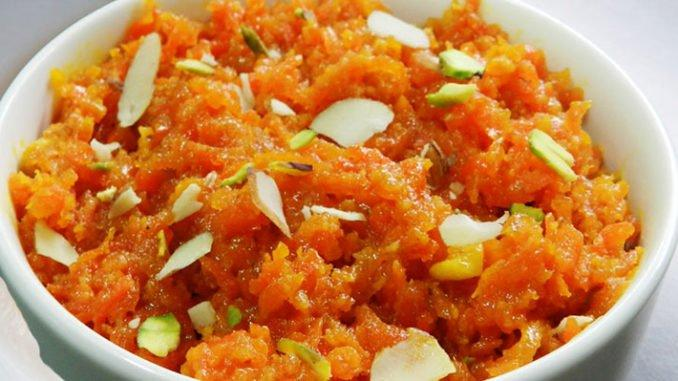Gajar ka halwa: (9, 7, 678, 381)
